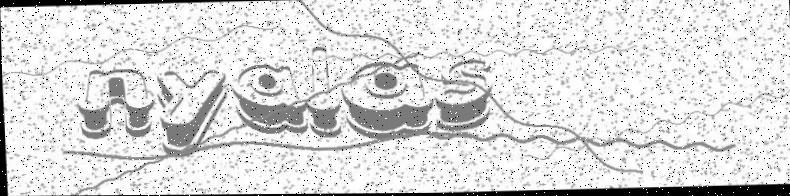a: (338, 54, 435, 141), (227, 61, 308, 139)
i: (303, 43, 344, 142)
n: (76, 62, 154, 138)
s: (430, 56, 496, 134)
y: (151, 64, 233, 157)
